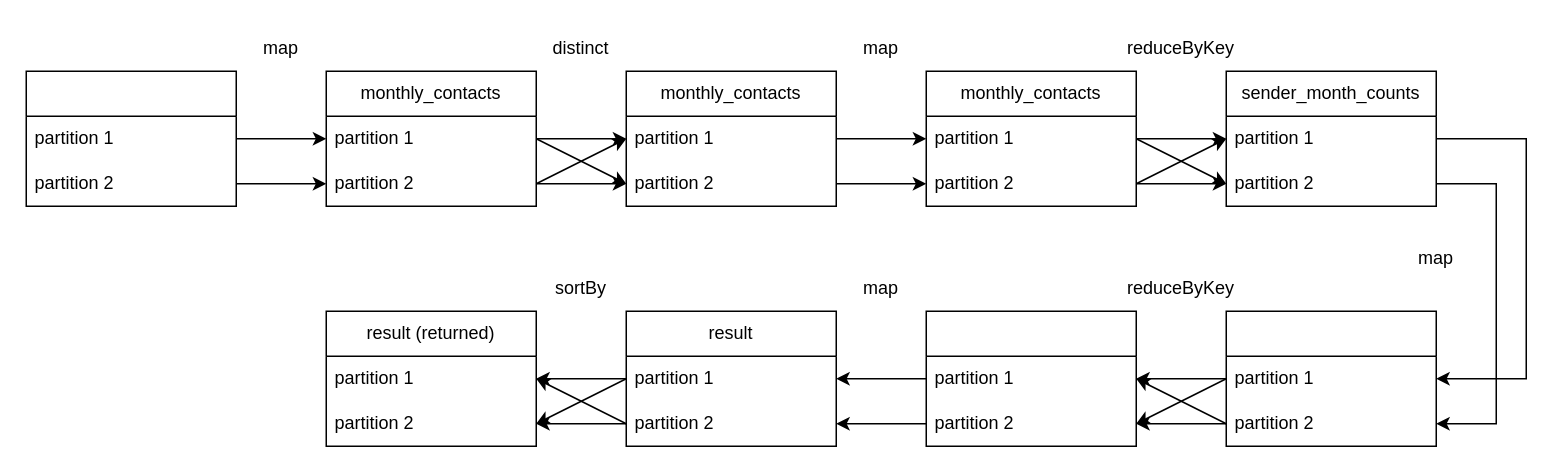
Some shapes in this 1565 by 473 pixel diagram are drawn without their labels. The box of each missing label's shape, as (x1, y1, x2, y2) in pixels:
formatted: (1225, 310, 1436, 446)
max_monthly_contacts: (925, 310, 1136, 446)
rdd: (25, 70, 236, 206)
